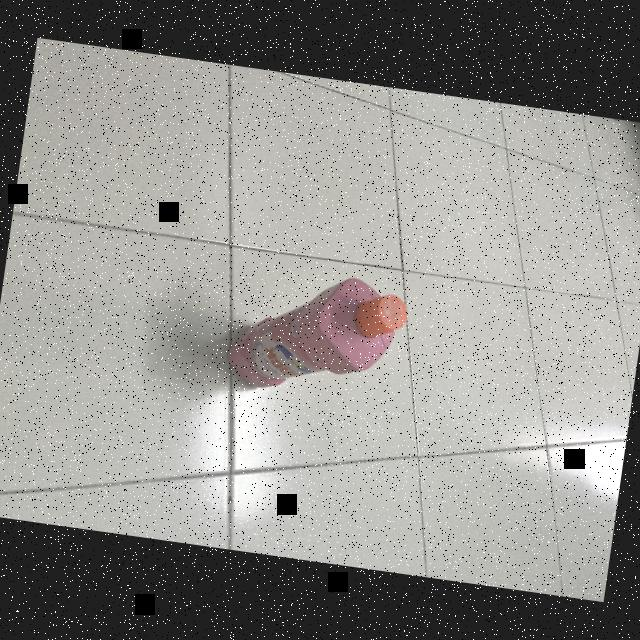chemical_plastic_bottle: (212, 256, 418, 420)
